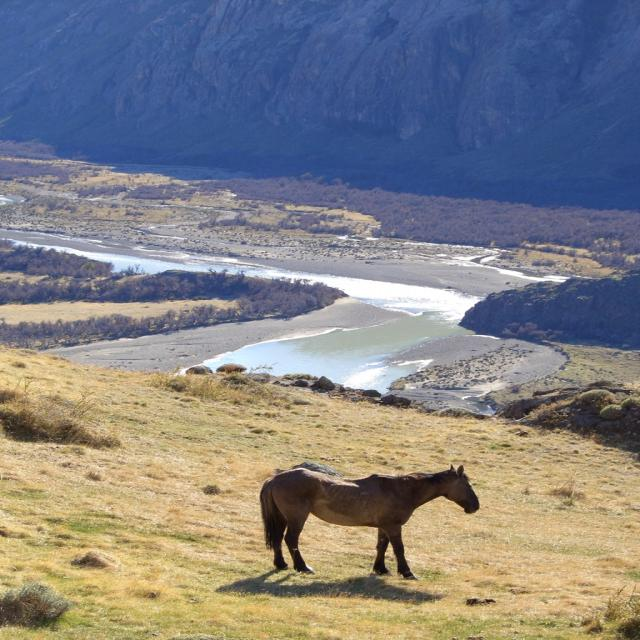Horse: (256, 464, 478, 579)
